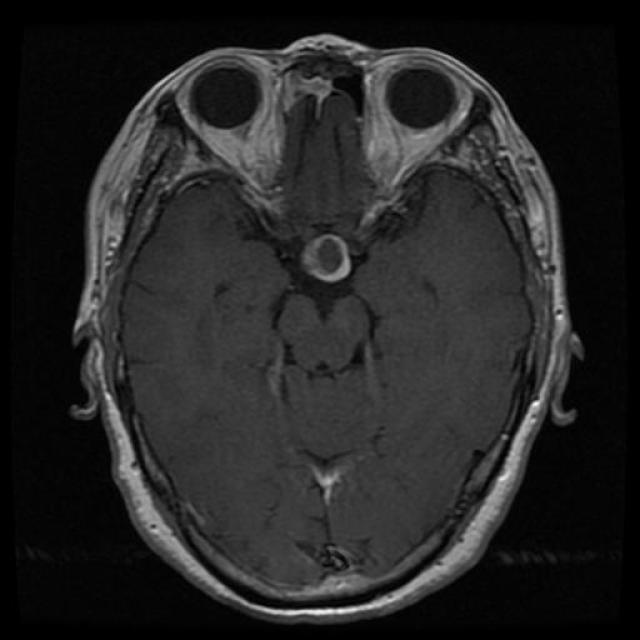pituitary: (280, 222, 370, 292)
